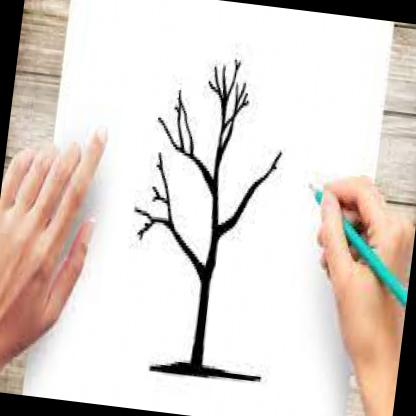branch_sharp: (124, 44, 295, 284)
trunk_straight: (192, 288, 214, 337)
